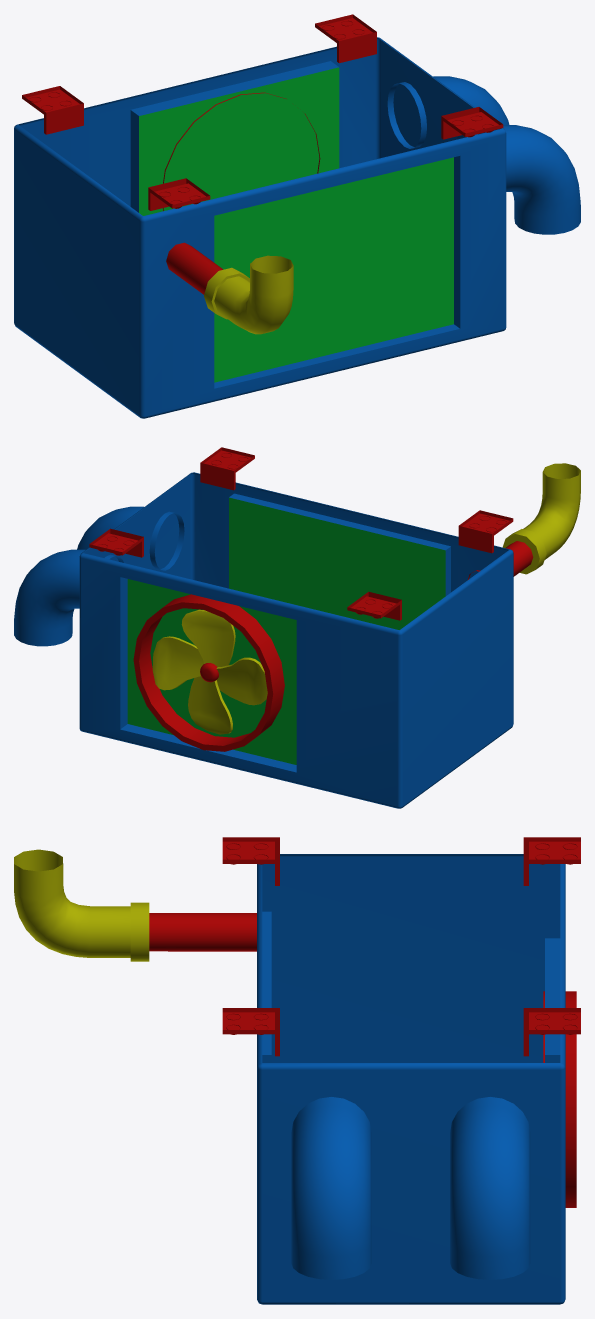
Rendered from SM_climatControl.fbx.
The picture shows the model from 3 angles, top to bottom: view 1: azimuth 30°, elevation 25°; view 2: azimuth 150°, elevation 25°; view 3: azimuth 270°, elevation 25°; orthographic projection. The views are drawn at different scales.
Parts seen in each view (by area): view 1: SM_climatControl; view 2: SM_climatControl; view 3: SM_climatControl.
Part boxes in pixels (x1,y1,x2,y2): SM_climatControl: (14, 14, 580, 418); SM_climatControl: (14, 447, 580, 808); SM_climatControl: (14, 837, 580, 1304).
Bounding box in the file's own units: 1.24 × 0.5663 × 1.1.
